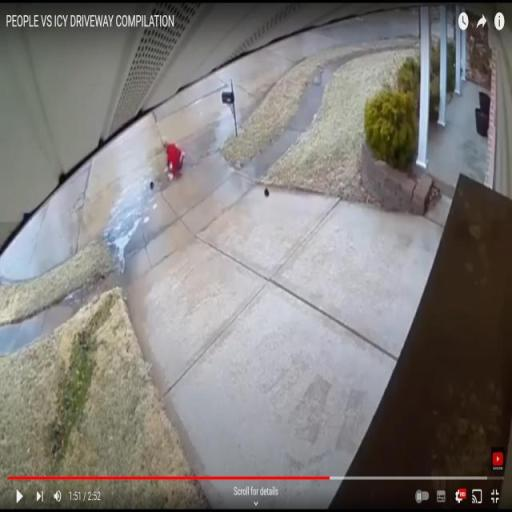Fall: (159, 134, 187, 185)
